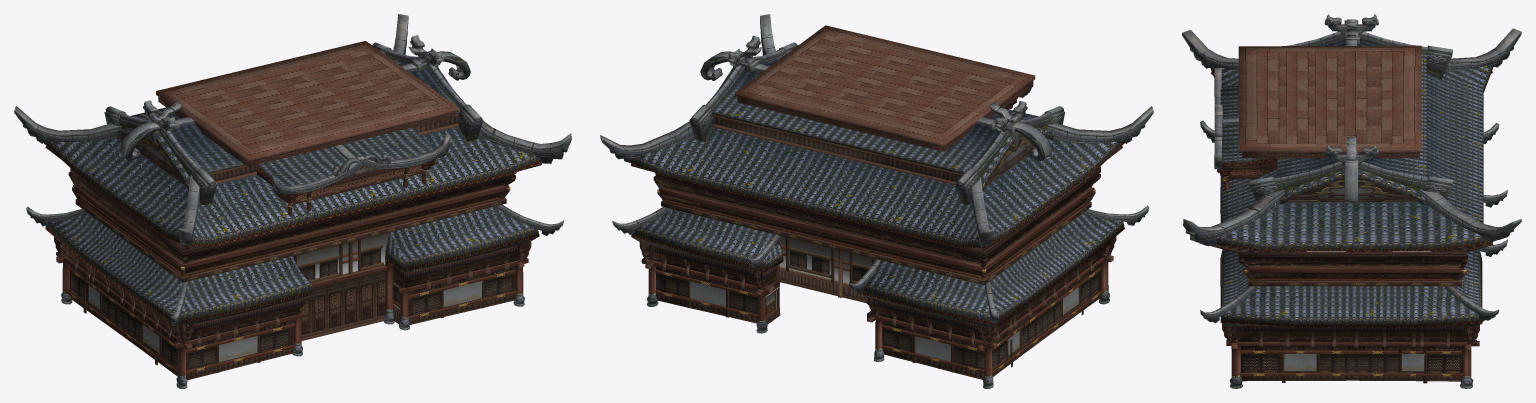
Rendered from S2_Build_XSC080_2.FBX.
The picture shows the model from 3 angles, left to right: view 1: azimuth 30°, elevation 25°; view 2: azimuth 150°, elevation 25°; view 3: azimuth 270°, elevation 25°; orthographic projection.
Visible parts, largest first — view 1: S2_Build_XSC080_2; view 2: S2_Build_XSC080_2; view 3: S2_Build_XSC080_2.
Boxes of the visible parts, x1,y1,x2,y2 form: S2_Build_XSC080_2: [14, 14, 571, 388]; S2_Build_XSC080_2: [600, 14, 1153, 388]; S2_Build_XSC080_2: [1182, 14, 1521, 388].
Size of the model in its own units: 4841 by 2657 by 3616.
